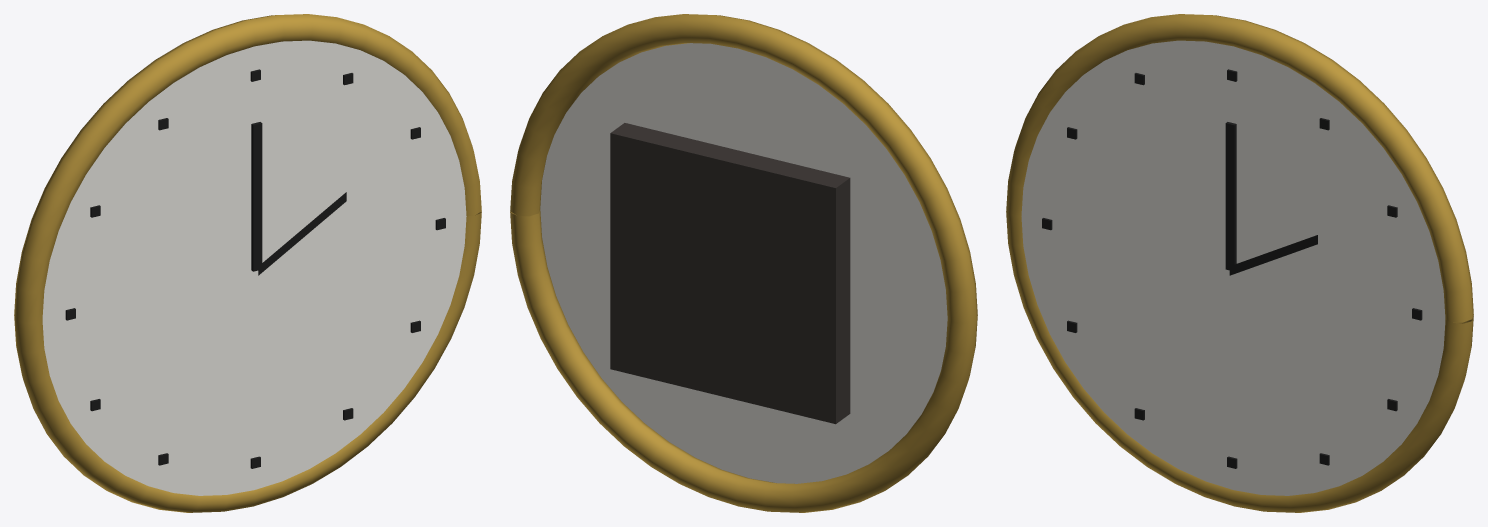
Rendered from ATL-CLK-std.glb.
3 views of the same model, side by side, from view 1: azimuth 30°, elevation 25°; view 2: azimuth 150°, elevation 25°; view 3: azimuth 330°, elevation 25° (orthographic).
Parts seen in each view (by area): view 1: ATL-CLK-std; view 2: ATL-CLK-std; view 3: ATL-CLK-std.
Part boxes in pixels (x1,y1,x2,y2): ATL-CLK-std: (14, 14, 481, 512); ATL-CLK-std: (510, 14, 977, 512); ATL-CLK-std: (1006, 14, 1473, 512).
Size of the model in its own units: 0.412 by 0.412 by 0.048.
